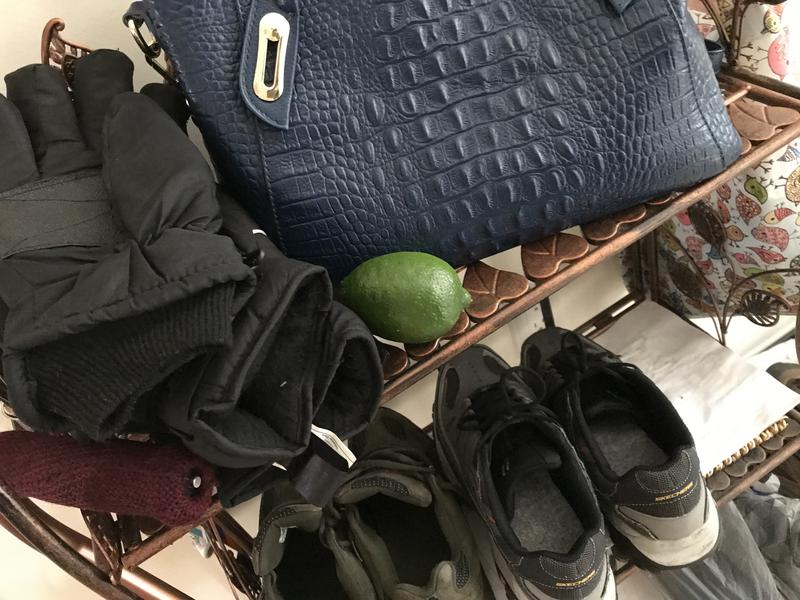lime: (334, 247, 483, 356)
